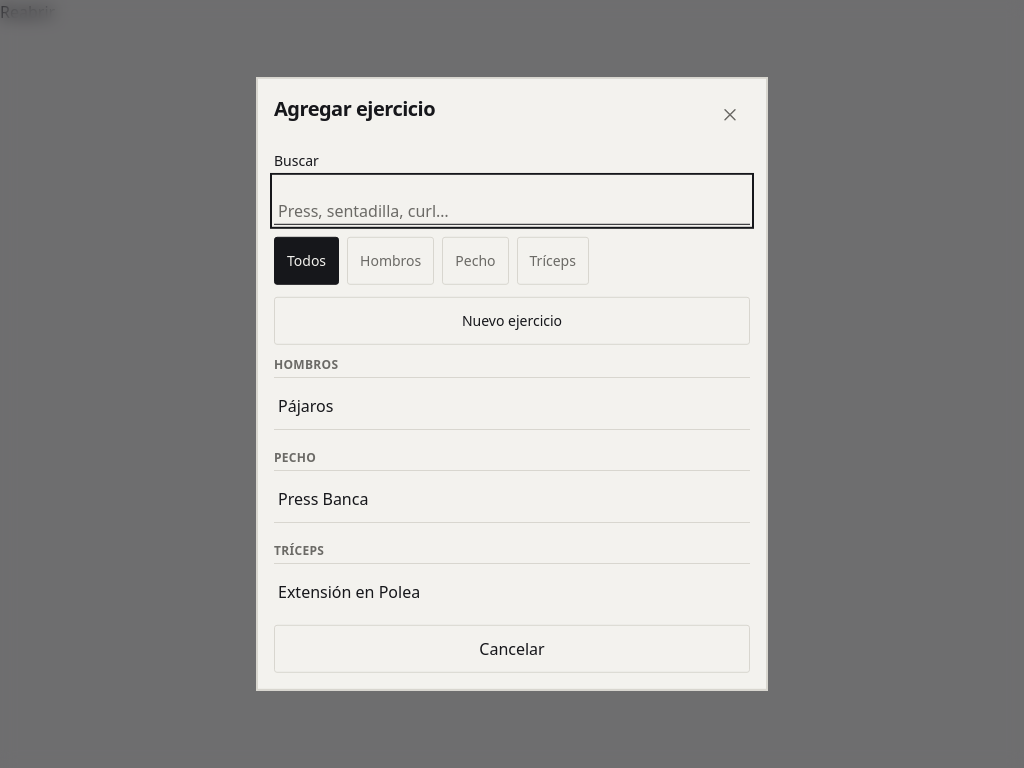
Test: the sheet on a phone › closes from a cross in the header, named in Spanish
Expected: the icon is shown, [720,105,740,125]
What coordinates should you click on to do the following:
click the button named "Cerrar"
I would click on:
 (730, 115)
Its box is [706,91,754,139].
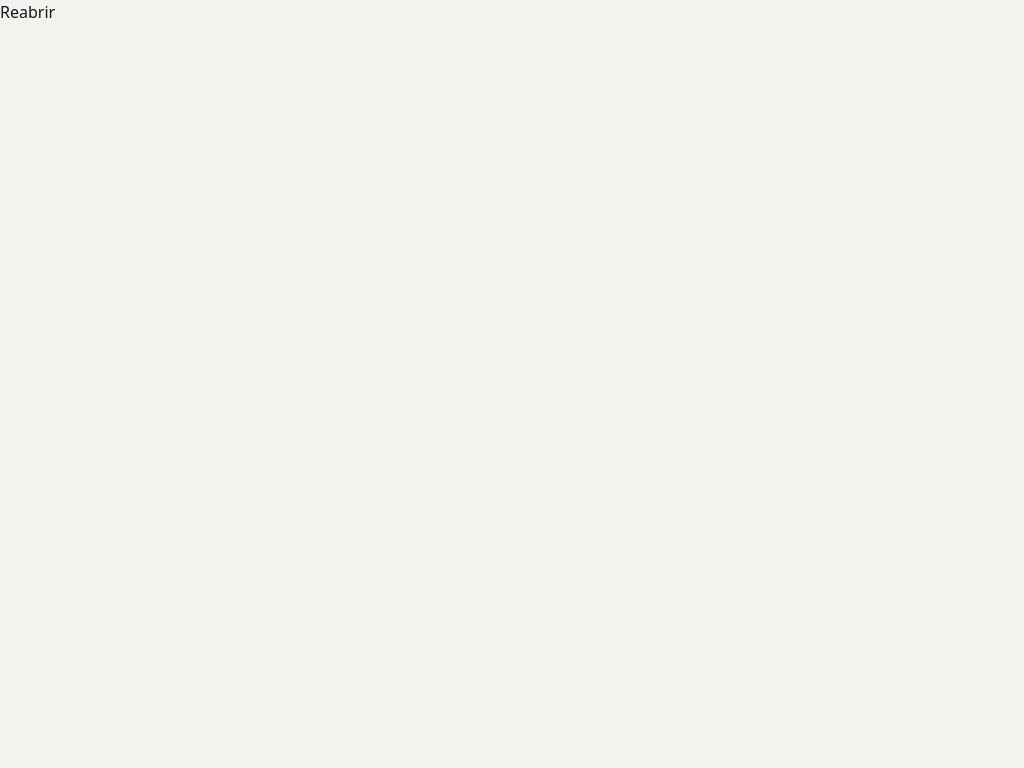
Now the dialog is gone
